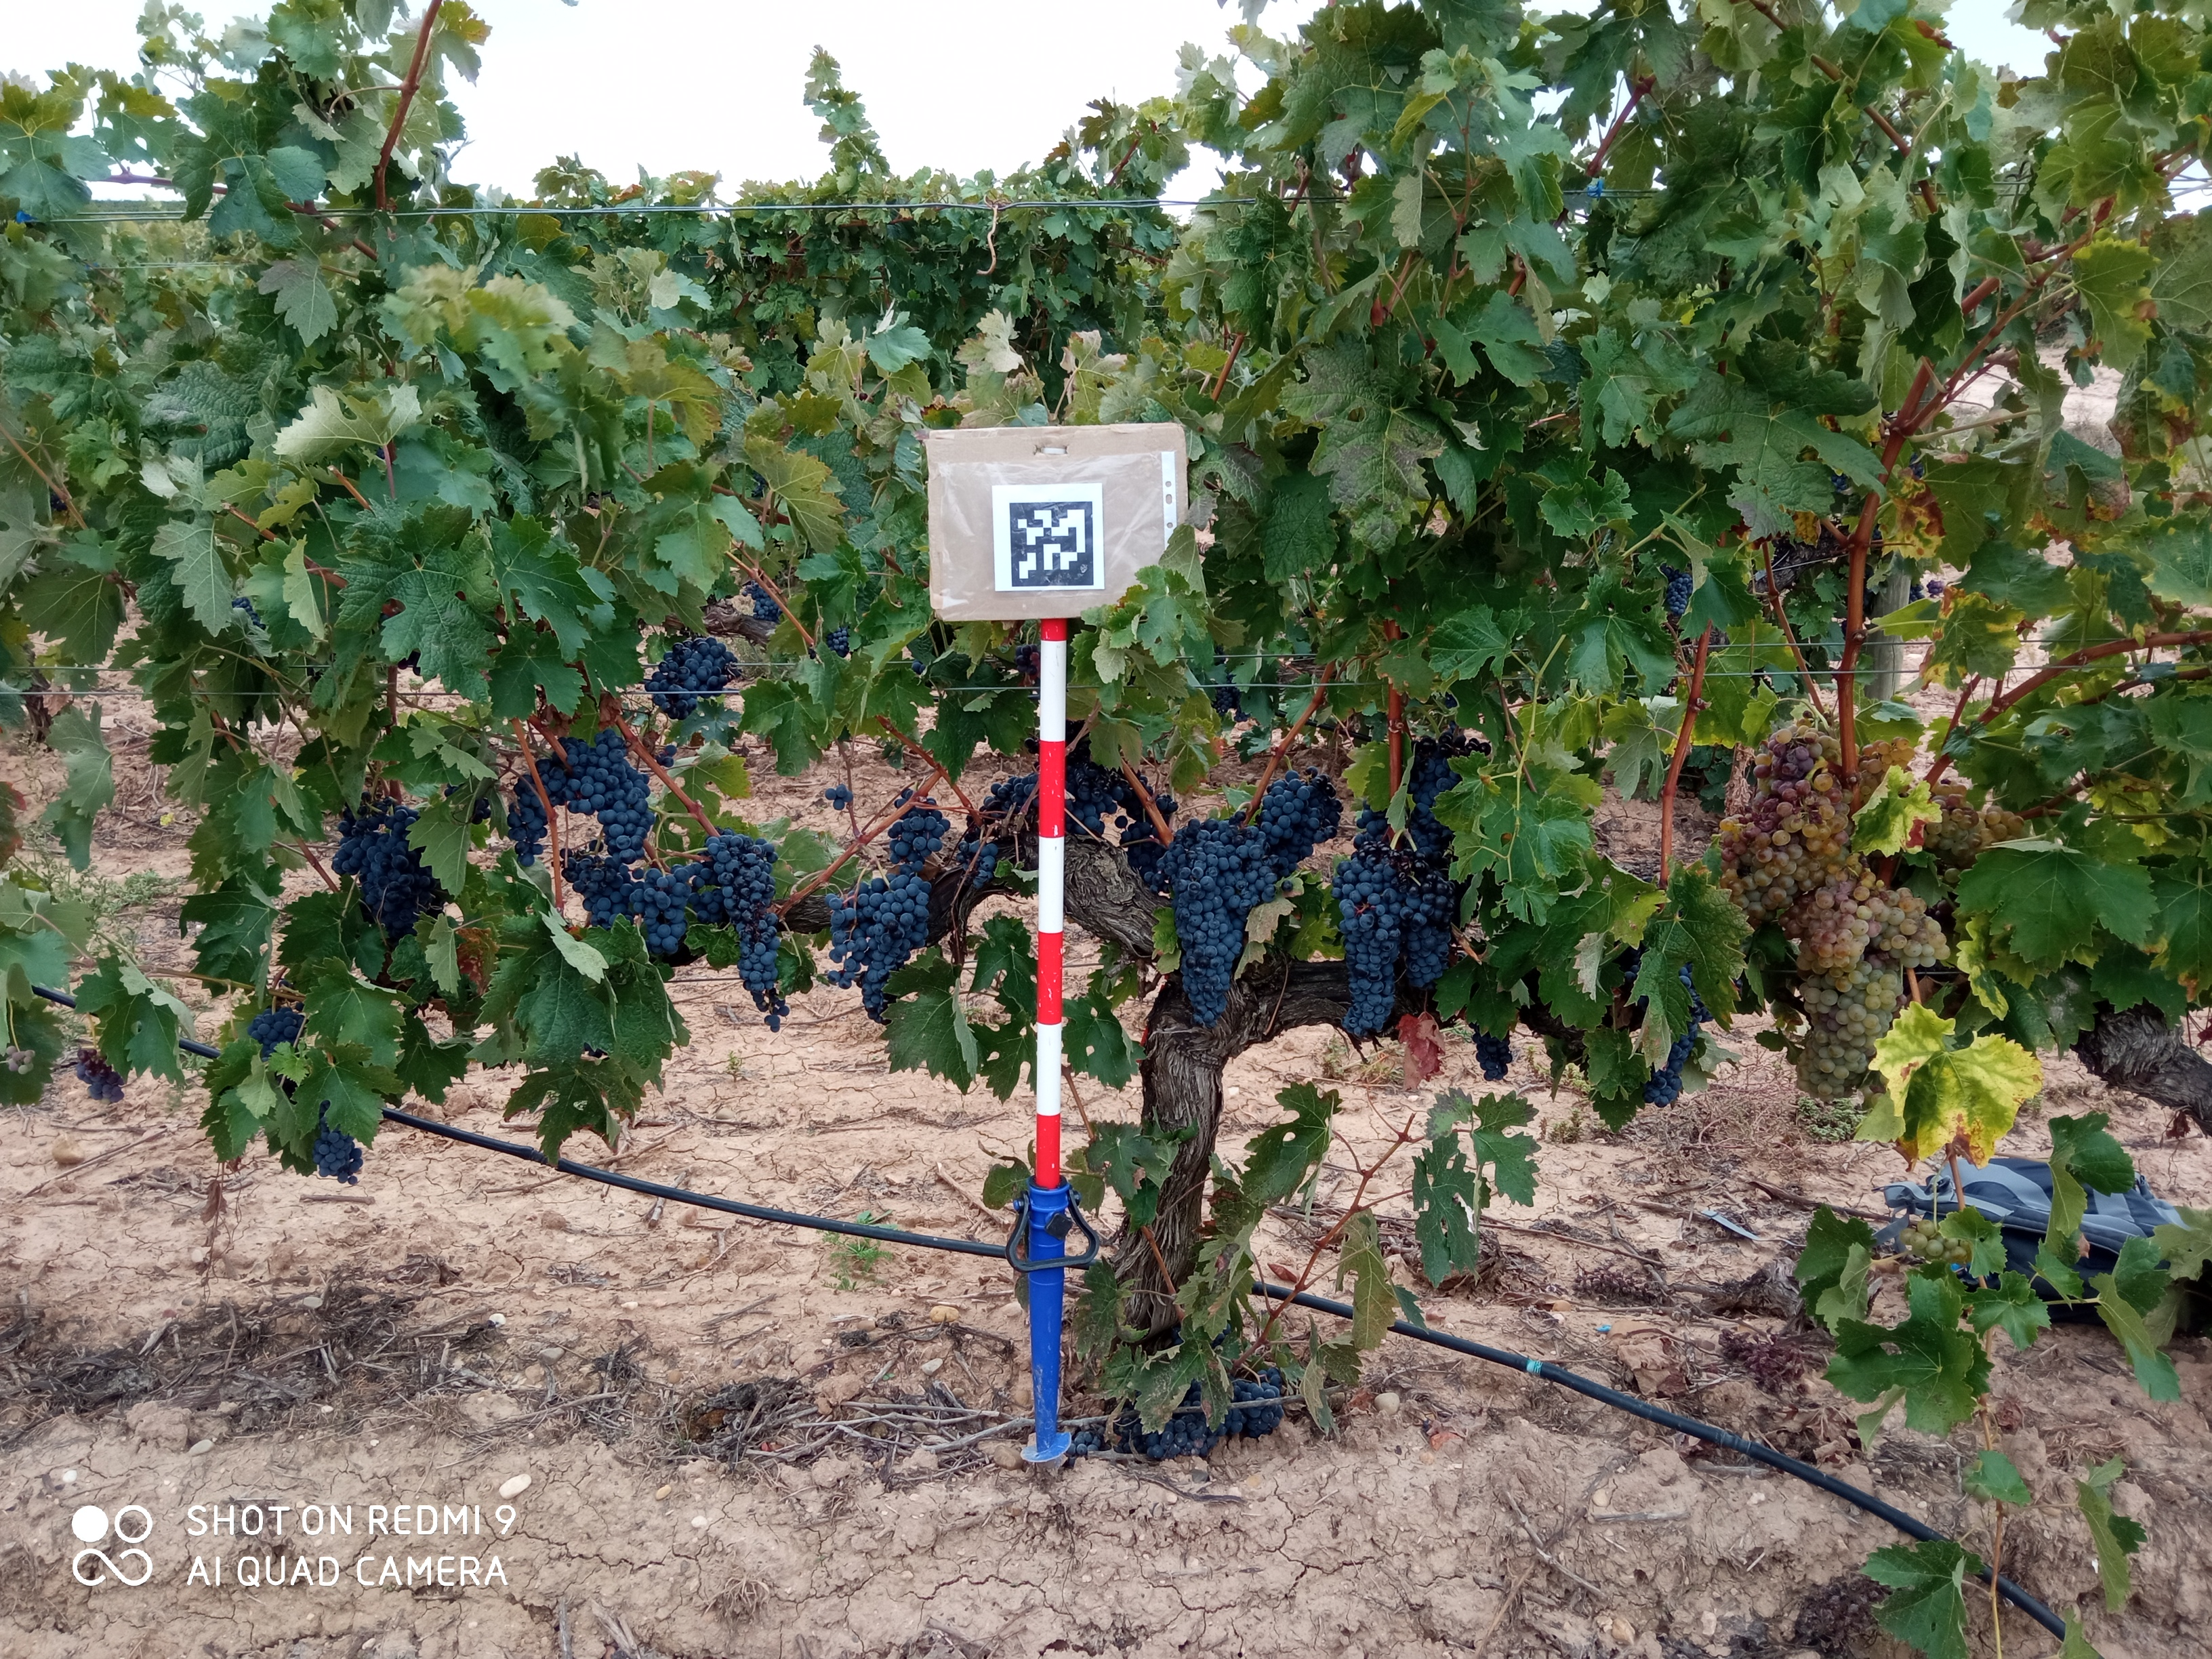grapes: (1721, 720, 1841, 924), (1148, 838, 1277, 1026), (705, 829, 798, 1032), (557, 843, 704, 955), (331, 793, 439, 934), (540, 730, 662, 847), (1836, 854, 1956, 969), (826, 875, 939, 993), (1336, 850, 1402, 1040), (1773, 922, 1909, 1014), (1794, 1009, 1904, 1115), (1406, 734, 1493, 859), (1259, 774, 1348, 878), (651, 636, 744, 716), (1925, 788, 2040, 845), (1406, 857, 1453, 992), (888, 784, 953, 877), (1855, 734, 1918, 810), (1066, 765, 1127, 833), (242, 1004, 319, 1058), (1674, 962, 1728, 1037), (305, 1127, 366, 1188), (503, 769, 538, 868), (1648, 1044, 1696, 1107), (979, 763, 1036, 812), (1470, 1021, 1514, 1080), (961, 829, 1000, 892), (1118, 816, 1160, 871), (1174, 814, 1266, 838), (1352, 796, 1392, 850), (862, 993, 900, 1030), (1620, 951, 1644, 988), (1151, 793, 1174, 821)
